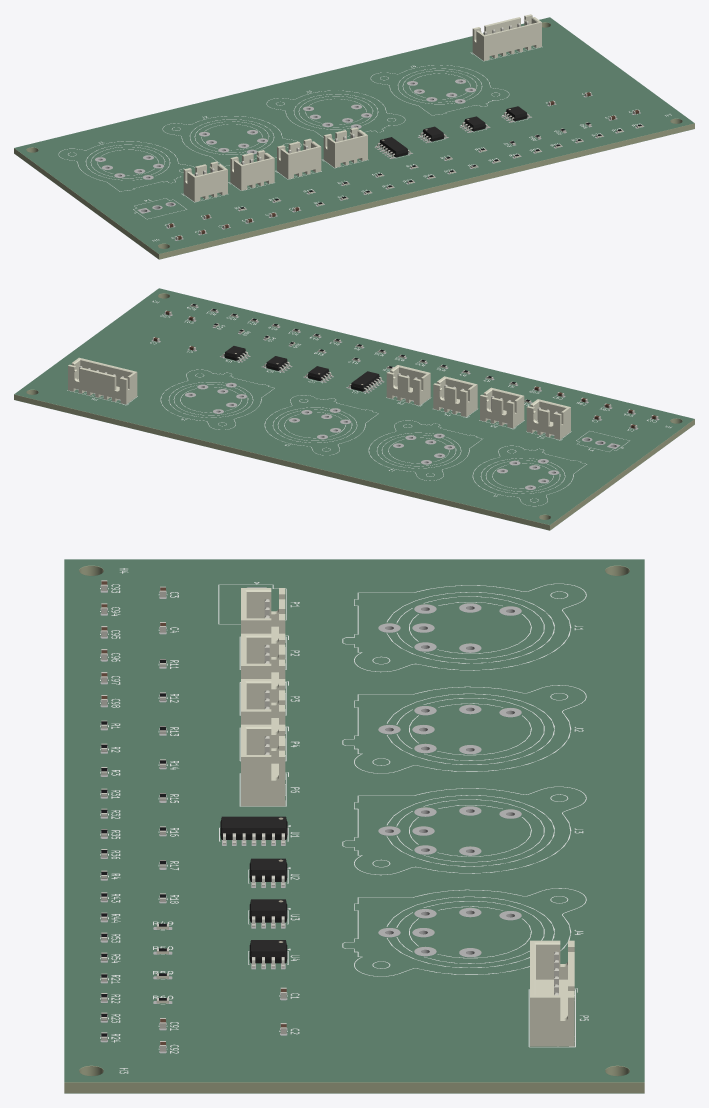
Rendered from io-board.glb.
3 views of the same model, one above another, from view 1: azimuth 30°, elevation 25°; view 2: azimuth 150°, elevation 25°; view 3: azimuth 270°, elevation 25° (orthographic). The views are drawn at different scales.
Parts seen in each view (by area): view 1: =>[0:1:1:16], =>[0:1:1:18], =>[0:1:1:7] (×4), =>[0:1:1:15], =>[0:1:1:13], =>[0:1:1:14], =>[0:1:1:11]; view 2: =>[0:1:1:16], =>[0:1:1:18], =>[0:1:1:7] (×4), =>[0:1:1:15], =>[0:1:1:13], =>[0:1:1:14], =>[0:1:1:11]; view 3: =>[0:1:1:16], =>[0:1:1:18], =>[0:1:1:15], =>[0:1:1:7] (×4), =>[0:1:1:14], =>[0:1:1:13], =>[0:1:1:9] (×3), =>[0:1:1:11].
Boxes of the visible parts, <box> form: =>[0:1:1:16]: <box>14,17,694,253</box>; =>[0:1:1:18]: <box>14,18,694,259</box>; =>[0:1:1:7] (×4): <box>183,127,367,201</box>; =>[0:1:1:15]: <box>58,46,671,241</box>; =>[0:1:1:13]: <box>472,14,541,60</box>; =>[0:1:1:14]: <box>95,79,644,240</box>; =>[0:1:1:11]: <box>376,137,411,158</box>; =>[0:1:1:16]: <box>14,288,694,524</box>; =>[0:1:1:18]: <box>14,289,694,530</box>; =>[0:1:1:7] (×4): <box>386,365,570,439</box>; =>[0:1:1:15]: <box>67,300,671,506</box>; =>[0:1:1:13]: <box>68,357,137,404</box>; =>[0:1:1:14]: <box>77,305,659,489</box>; =>[0:1:1:11]: <box>347,371,382,392</box>; =>[0:1:1:16]: <box>64,559,644,1082</box>; =>[0:1:1:18]: <box>64,560,644,1093</box>; =>[0:1:1:15]: <box>100,568,588,1073</box>; =>[0:1:1:7] (×4): <box>241,588,285,806</box>; =>[0:1:1:14]: <box>100,585,521,1053</box>; =>[0:1:1:13]: <box>530,940,574,1046</box>; =>[0:1:1:9] (×3): <box>249,858,287,967</box>; =>[0:1:1:11]: <box>220,816,287,844</box>.
Size of the model in its own units: 0.16 by 0.0104 by 0.075.
